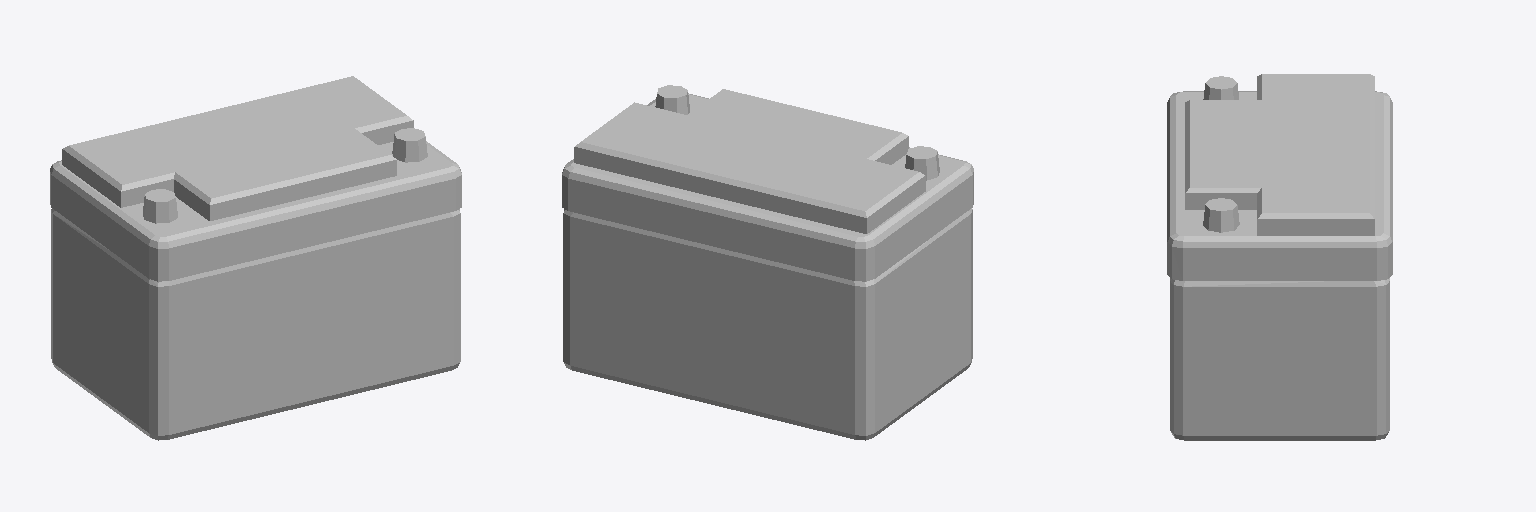
The model's file is car_battery_1.obj.
The picture shows the model from 3 angles: view 1: azimuth 30°, elevation 25°; view 2: azimuth 150°, elevation 25°; view 3: azimuth 270°, elevation 25°; orthographic projection.
Parts seen in each view (by area): view 1: car_battery_1; view 2: car_battery_1; view 3: car_battery_1.
Boxes of the visible parts, <box> form: car_battery_1: <box>50,76,461,440</box>; car_battery_1: <box>562,85,973,440</box>; car_battery_1: <box>1167,74,1392,440</box>.
Bounding box in the file's own units: 0.3744 × 0.2574 × 0.234.